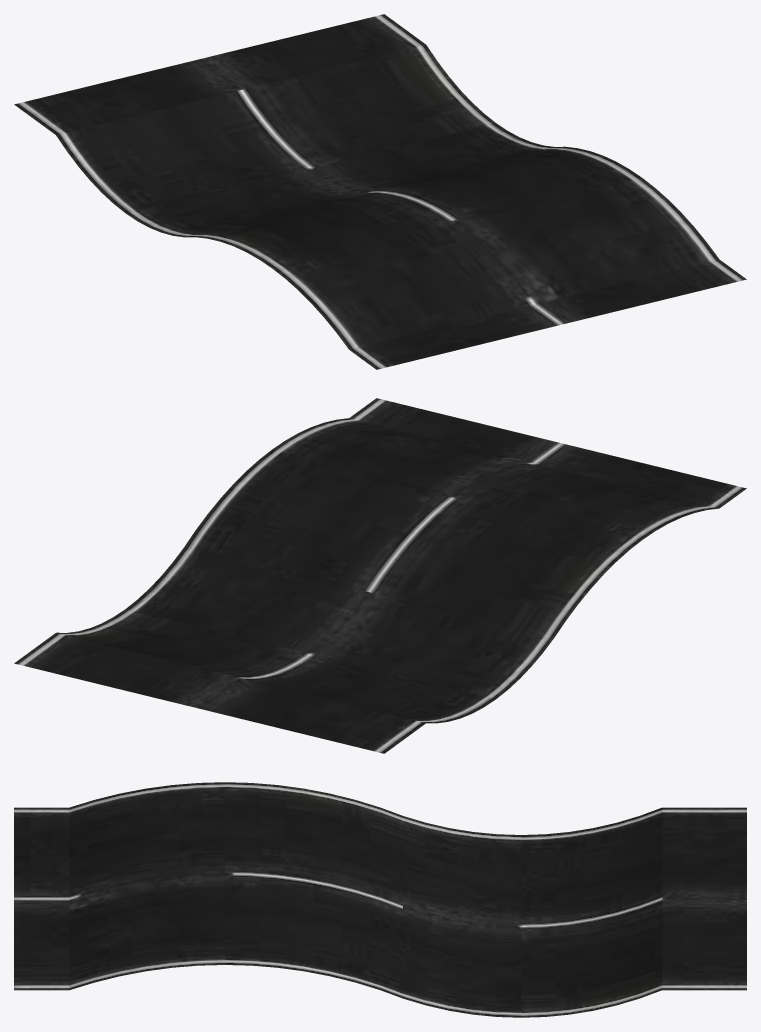
File: carretera_1.dae
3 views of the same model, one above another, from view 1: azimuth 30°, elevation 25°; view 2: azimuth 150°, elevation 25°; view 3: azimuth 270°, elevation 25° (orthographic).
Visible parts, largest first — view 1: group_0; view 2: group_0; view 3: group_0.
Part boxes in pixels (x1,y1,x2,y2): group_0: (14,14,746,369); group_0: (14,398,746,753); group_0: (14,782,746,1017).
Bounding box in the file's own units: 2845 × 4822 × 383.
1 material, 1 textured.
